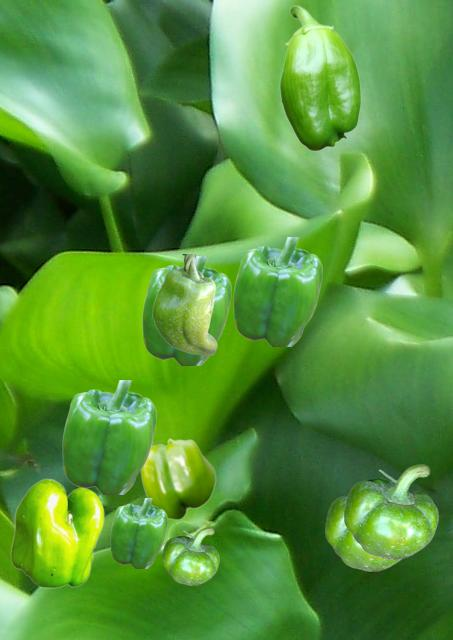bell_pepper: (279, 5, 360, 150), (62, 380, 155, 493), (10, 478, 103, 587), (233, 237, 321, 345), (142, 256, 230, 364), (344, 464, 437, 558), (152, 254, 216, 354), (140, 438, 215, 519), (325, 495, 402, 570), (110, 498, 166, 567), (162, 527, 218, 584)
